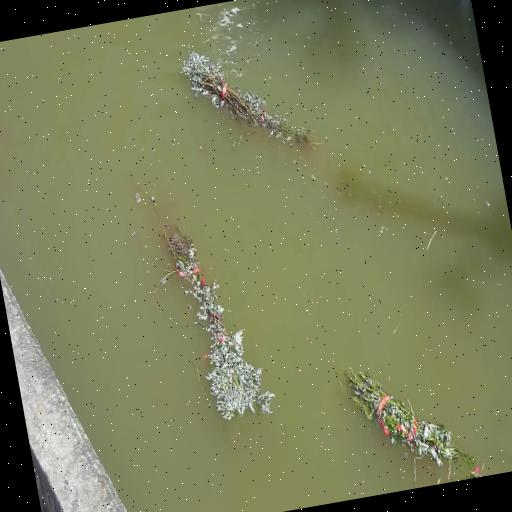twig: (145, 193, 274, 420), (344, 369, 475, 487), (181, 50, 320, 146)
